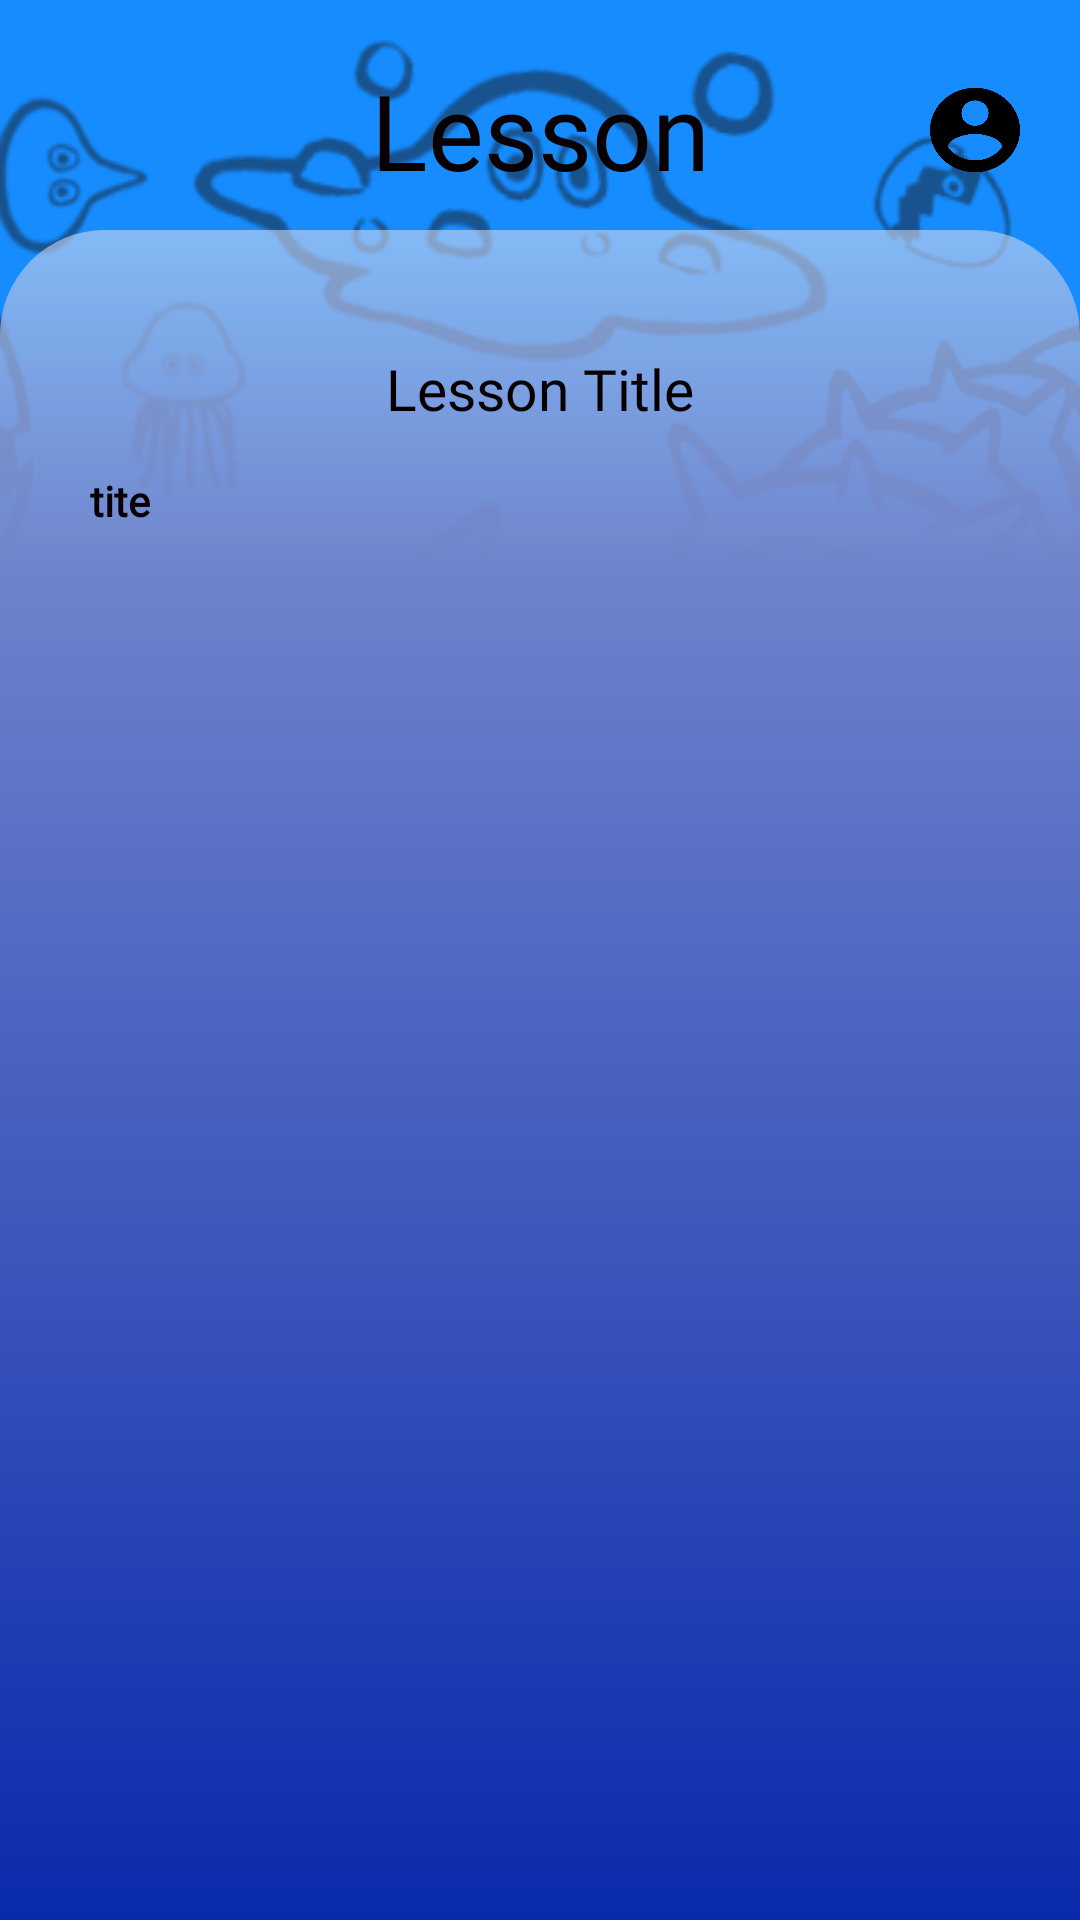

Point at icon controls on the screen. Image size 1080px×1920px, points as point (x, y).
profile: point (975, 131)
